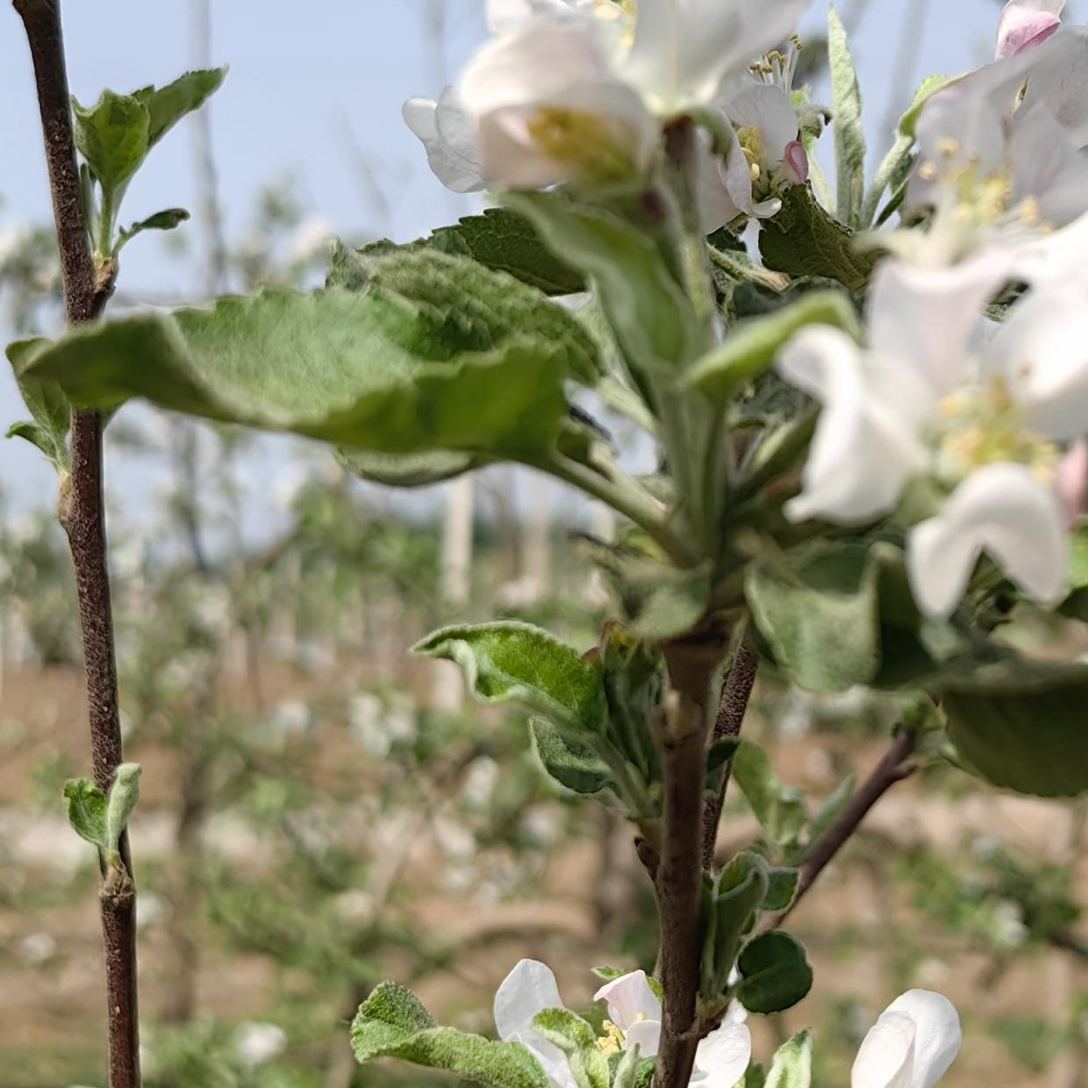apple_flower: (779, 0, 1088, 615), (404, 0, 811, 190)
